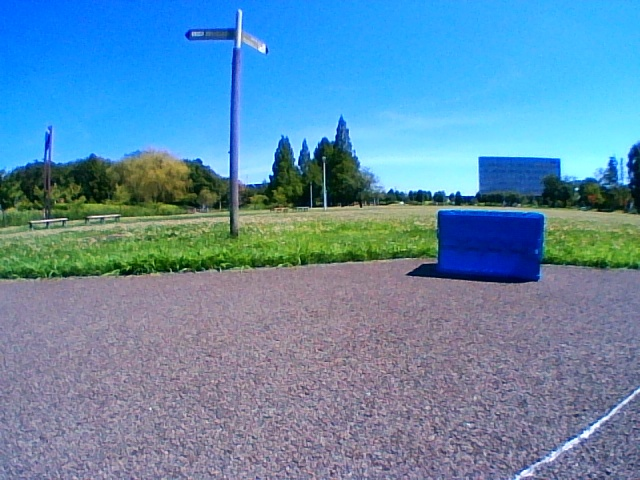blue_box: (438, 209, 544, 283)
